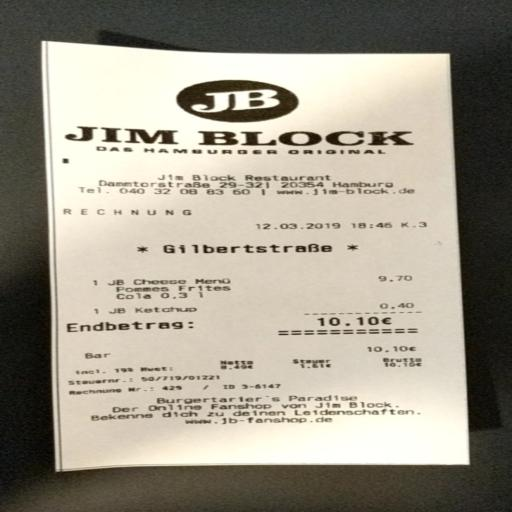paper: (19, 32, 512, 512)
